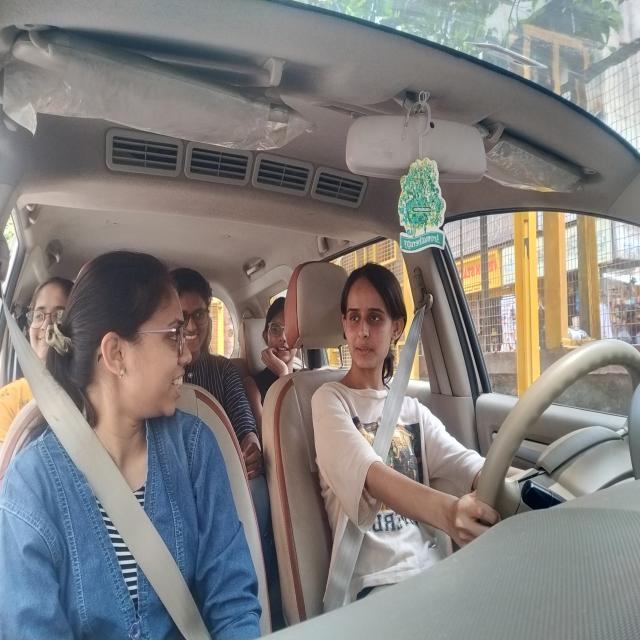LeftRight: (343, 260, 409, 396)
person: (61, 250, 190, 432), (27, 272, 77, 369), (179, 268, 218, 356), (261, 296, 302, 374)
talking: (172, 366, 188, 407), (354, 339, 375, 358)
